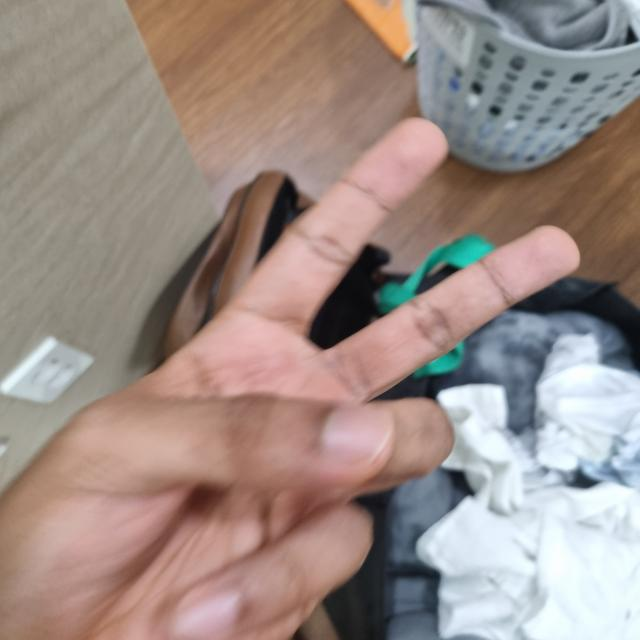Scissors: (3, 114, 583, 640)
